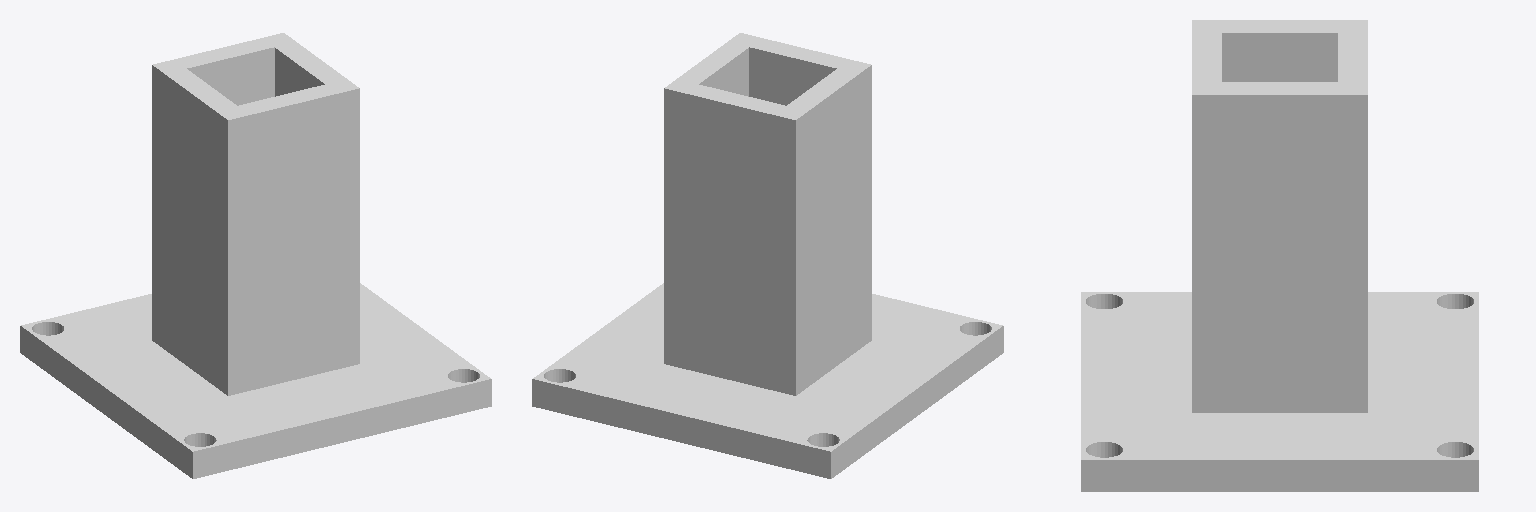
robot.urdf — base:
<?xml version="1.0" ?>

<robot name="base">
	<link name="base">
<!-- 	    <contact>
	      <stiffness value="40000000.0"/>
	      <damping value="400000.0"/>
	      <lateral_friction value="1"/>
	      <spinning_friction value="0"/>
	      <rolling_friction value="0"/>
	    </contact> -->
		<inertial>
			<origin xyz="0 0 0"/>
			<mass value="0.1"/>
			<inertia ixx="0.1" ixy="0" ixz="0" iyy="0.1" iyz="0" izz="0.1"/>
		</inertial>
		<visual>
			<origin rpy="0 0 0" xyz="0 0 0"/>
	      	<geometry>
	      		<!-- <cylinder length="0.001" radius="0.001"/> -->
	        	<mesh filename="base.obj"/>
	      	</geometry>
	  		<material name="panda_white">
	  			<color rgba="0.91 0.91 0.91 1."/>
				</material>
		</visual>
		<collision concave="yes">
	  		<origin rpy="0 0 0" xyz="0 0 0"/>
	  		<geometry>
	  			<!-- <cylinder length="0.001" radius="0.001"/> -->
	    		<mesh filename="base.obj"/>
	  		</geometry>
	  		<material name="panda_white"/>
		</collision>
	</link>

</robot>

--- Render facts (derived) ---
3 views of the same robot in one strip: view 1: azimuth 30°, elevation 25°; view 2: azimuth 150°, elevation 25°; view 3: azimuth 270°, elevation 25° (orthographic).
Model base with 1 links and 0 joints (none), rooted at base, posed all joints at 0.
Links seen in each view (by area): view 1: base; view 2: base; view 3: base.
Link boxes in pixels (x1,y1,x2,y2): base: (20,33,491,478); base: (532,33,1003,478); base: (1081,20,1478,491).
Bounding box of the posed robot: 0.068 × 0.068 × 0.066 m (x, y, z).
Meshes: 1 distinct files referenced, 1 mesh visuals loaded (1 OBJ).